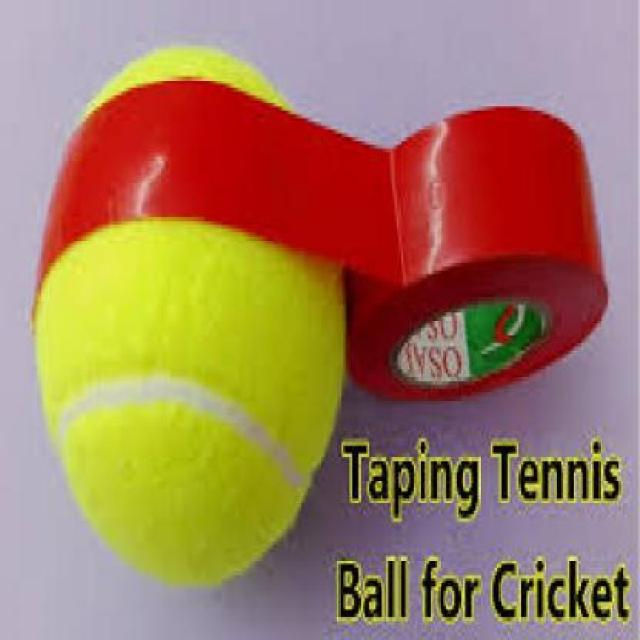ball: (5, 37, 440, 597)
